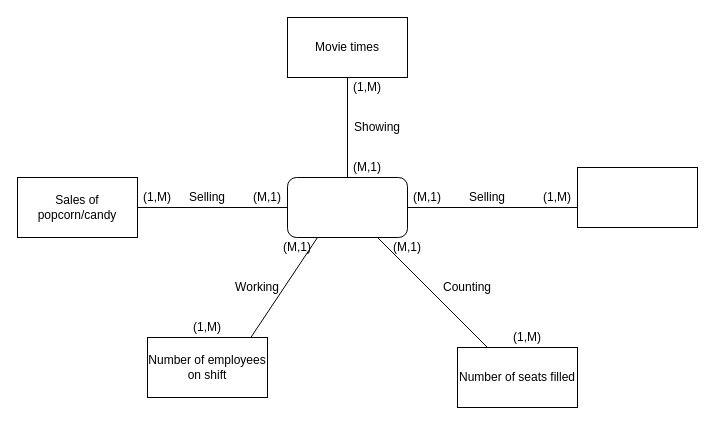
This 715x425 diagram has some shape labels left out. Here are the shapes that lost their labels. From the top down, the box of each, then its label:
(286, 176, 408, 238): Movie Theater
(576, 166, 698, 228): Sales of tickets
